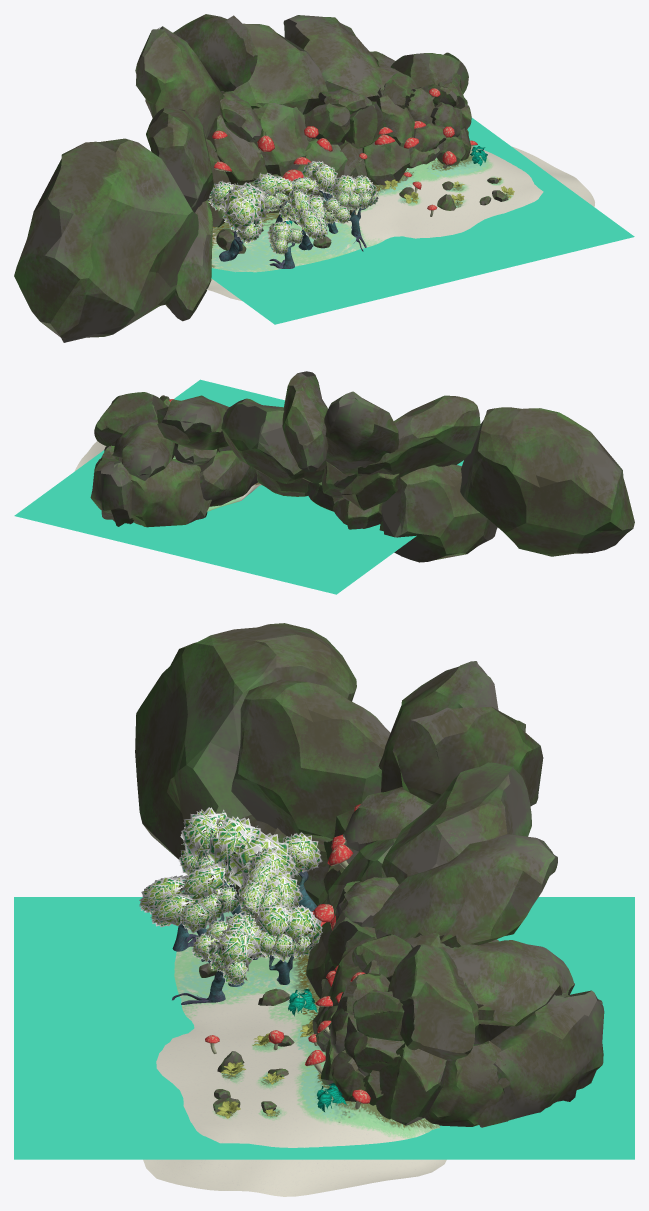
Rendered from playa.fbx.
The picture shows the model from 3 angles, top to bottom: view 1: azimuth 30°, elevation 25°; view 2: azimuth 150°, elevation 25°; view 3: azimuth 270°, elevation 25°; orthographic projection. The views are drawn at different scales.
Parts seen in each view (by area): view 1: Piedra 2.007, Plano agua, Suelo arena, Piedra 1.016, Piedra 2.006, Piedra 1.018, Piedra fake.001, Piedra 1.019, Piedra fake, Piedra 2.004, Piedra 3.009, Piedra 3.006 (+21 smaller); view 2: Plano agua, Piedra 2.007, Piedra fake, Piedra fake.001, Piedra 1.016, Piedra 2.006, Piedra 1.007, Piedra 1.019, Piedra 1.018, Piedra 1.008, Piedra 1.009, Piedra 1.006 (+8 smaller); view 3: Plano agua, Suelo arena, Piedra 2.007, Piedra fake.001, Piedra 1.018, Piedra 1.006, Piedra 1.019, Piedra 2.006, Piedra 3.006, Piedra 1.008, Piedra 1.016, arbol 1 hoja (+20 smaller).
Part boxes in pixels (x1,y1,x2,y2): Piedra 2.007: (14, 138, 198, 342); Plano agua: (211, 117, 634, 324); Suelo arena: (206, 146, 594, 301); Piedra 1.016: (135, 26, 224, 138); Piedra 2.006: (232, 23, 327, 114); Piedra 1.018: (283, 15, 382, 101); Piedra fake.001: (146, 107, 213, 212); Piedra 1.019: (173, 14, 257, 91); Piedra fake: (165, 200, 212, 321); Piedra 2.004: (253, 103, 311, 176); Piedra 3.009: (207, 115, 267, 185); Piedra 3.006: (390, 52, 468, 93); Plano agua: (14, 379, 463, 594); Piedra 2.007: (460, 407, 634, 556); Piedra fake: (379, 464, 497, 562); Piedra fake.001: (358, 395, 480, 479); Piedra 1.016: (324, 391, 398, 476); Piedra 2.006: (221, 398, 308, 483); Piedra 1.007: (114, 458, 211, 527); Piedra 1.019: (282, 371, 328, 472); Piedra 1.018: (157, 395, 229, 450); Piedra 1.008: (112, 419, 174, 480); Piedra 1.009: (197, 449, 257, 506); Piedra 1.006: (90, 457, 133, 526); Plano agua: (14, 897, 634, 1159); Suelo arena: (143, 911, 446, 1196); Piedra 2.007: (135, 623, 356, 859); Piedra fake.001: (231, 679, 390, 845); Piedra 1.018: (372, 834, 557, 947); Piedra 1.006: (475, 990, 604, 1127); Piedra 1.019: (392, 706, 543, 805); Piedra 2.006: (381, 762, 531, 884); Piedra 3.006: (387, 944, 478, 1060); Piedra 1.008: (438, 940, 574, 1026); Piedra 1.016: (378, 661, 498, 792); arbol 1 hoja: (139, 863, 239, 933).
Bounding box in the file's own units: 61863 × 22781 × 39231.
